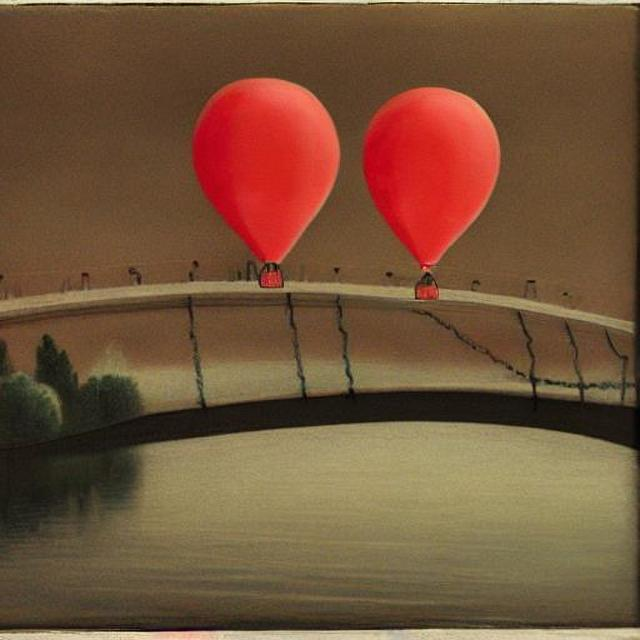balloon: (184, 74, 338, 272), (350, 84, 497, 290)
